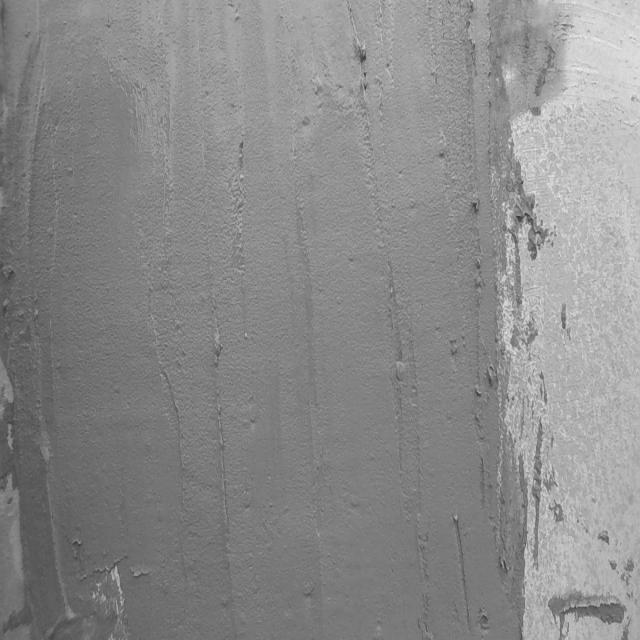trowels marks: (210, 300, 236, 580), (349, 3, 371, 100)
